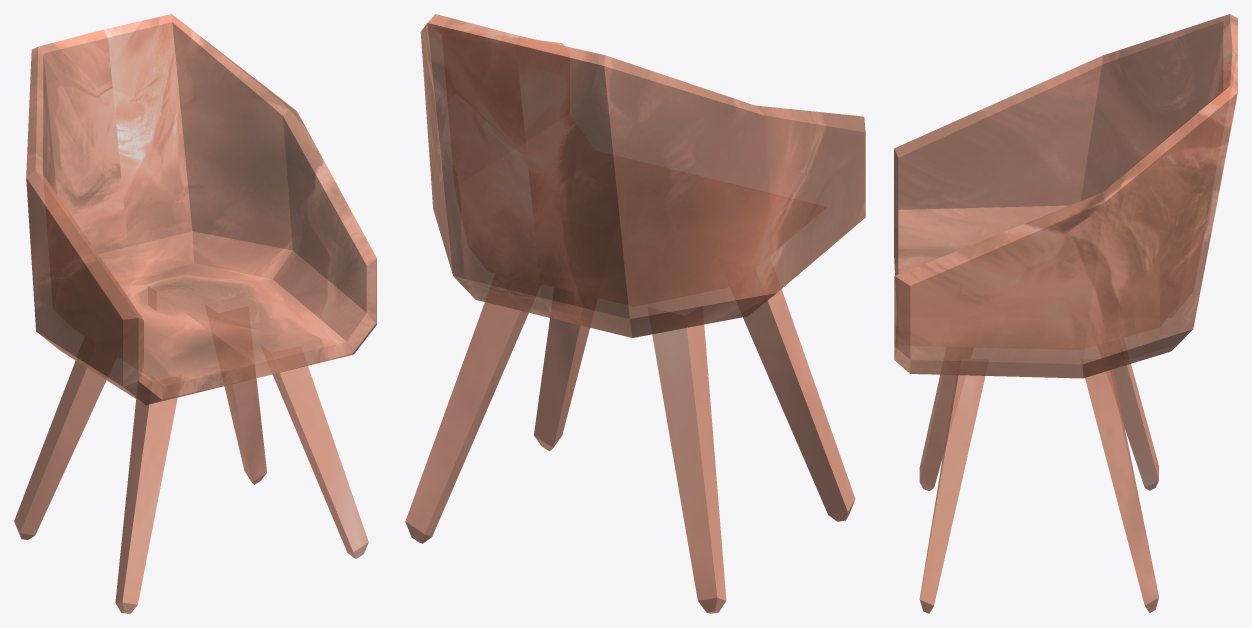
Rendered from salt-crystal-chair-1.glb.
3 views of the same model, side by side, from view 1: azimuth 30°, elevation 25°; view 2: azimuth 150°, elevation 25°; view 3: azimuth 270°, elevation 25° (orthographic). The views are drawn at different scales.
Visible parts, largest first — view 1: chair; view 2: chair; view 3: chair.
Part boxes in pixels (bbox=[...]): chair: bbox=[14, 14, 376, 613]; chair: bbox=[405, 14, 865, 613]; chair: bbox=[894, 14, 1237, 613].
Size of what is drawn, in the model's own units: 0.7868 by 1.27 by 0.7847.
1 material, 1 textured.
